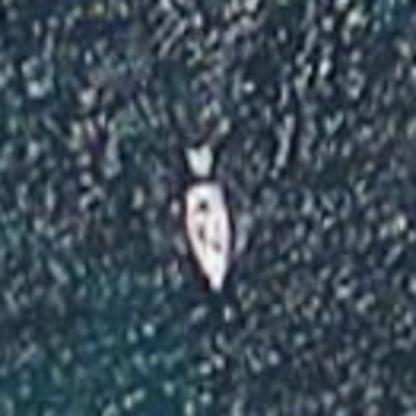ship: (160, 133, 265, 300)
